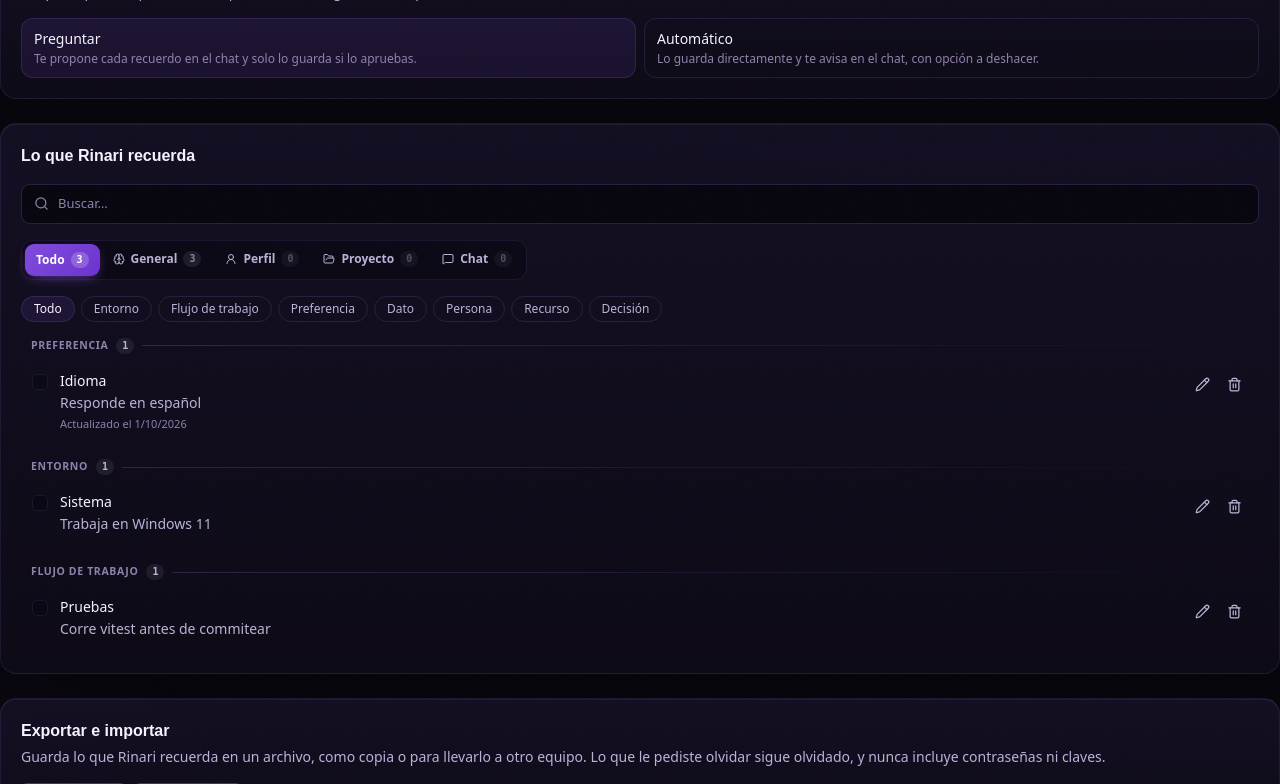
olvida un recuerdo solo tras confirmarlo, con su revisión
(page scrolled)
Click the button named "Olvidar «Idioma»".
click(1234, 384)  # box x1=1220 y1=370 x2=1248 y2=398
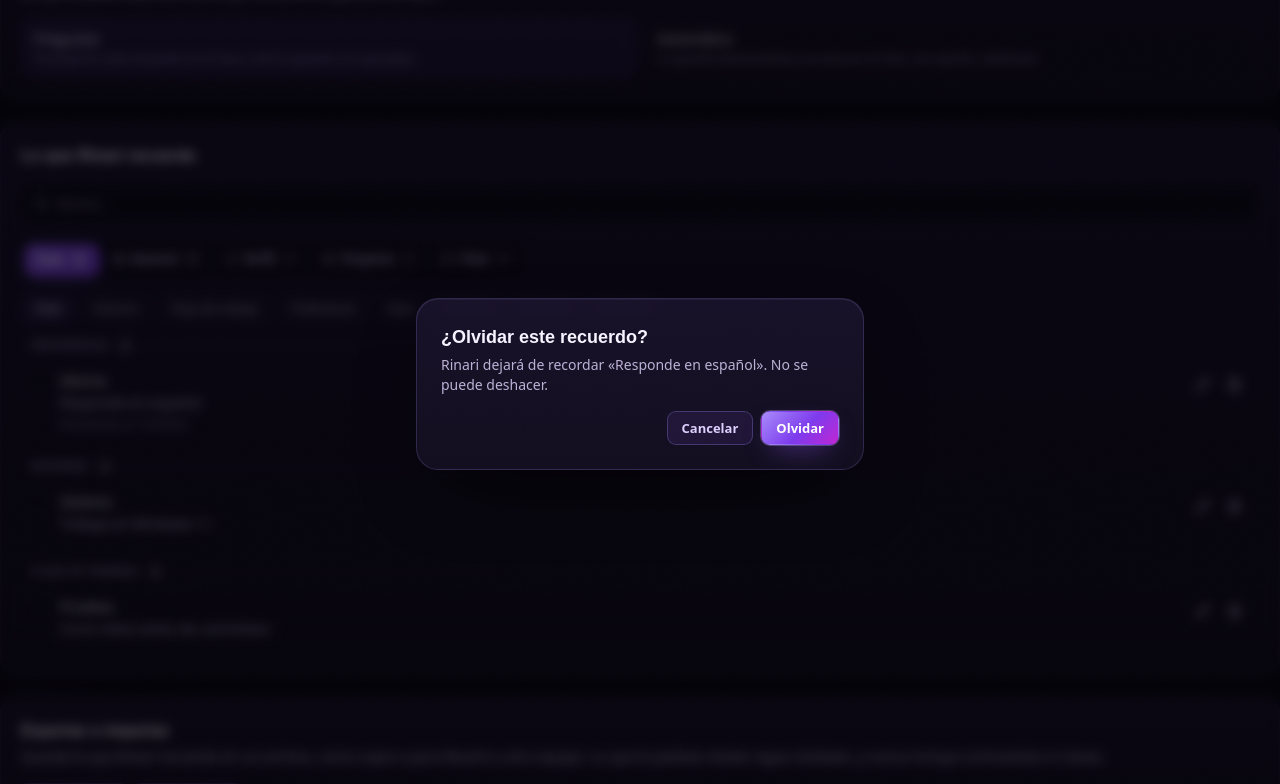
Expected: the text "Rinari dejará de recordar «Responde en español». No se puede deshacer." is shown, x1=441 y1=355 x2=839 y2=395
Click the button "Cancelar".
click(710, 428)  # box x1=667 y1=411 x2=753 y2=445
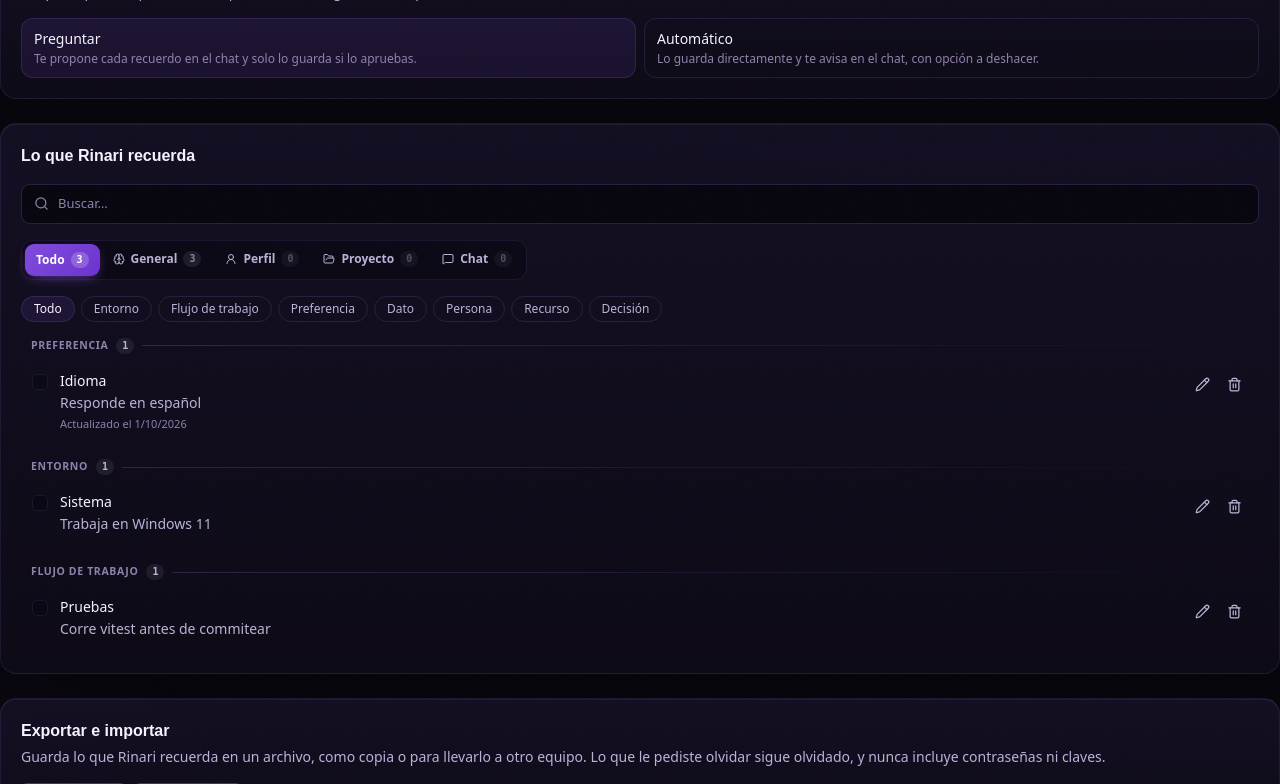
Click the button named "Olvidar «Idioma»".
click(1234, 384)  # box x1=1220 y1=370 x2=1248 y2=398
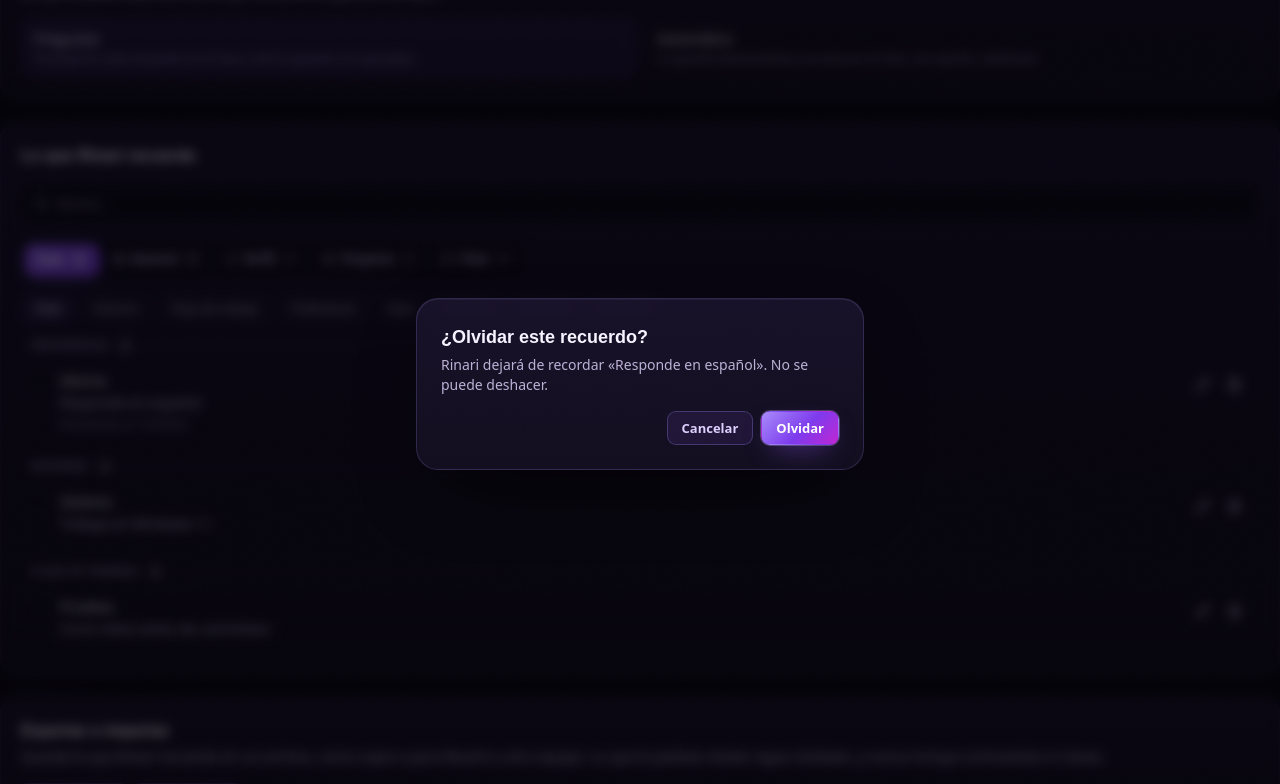
Click the button "Olvidar".
click(800, 428)  # box x1=761 y1=411 x2=839 y2=445
(page scrolled)
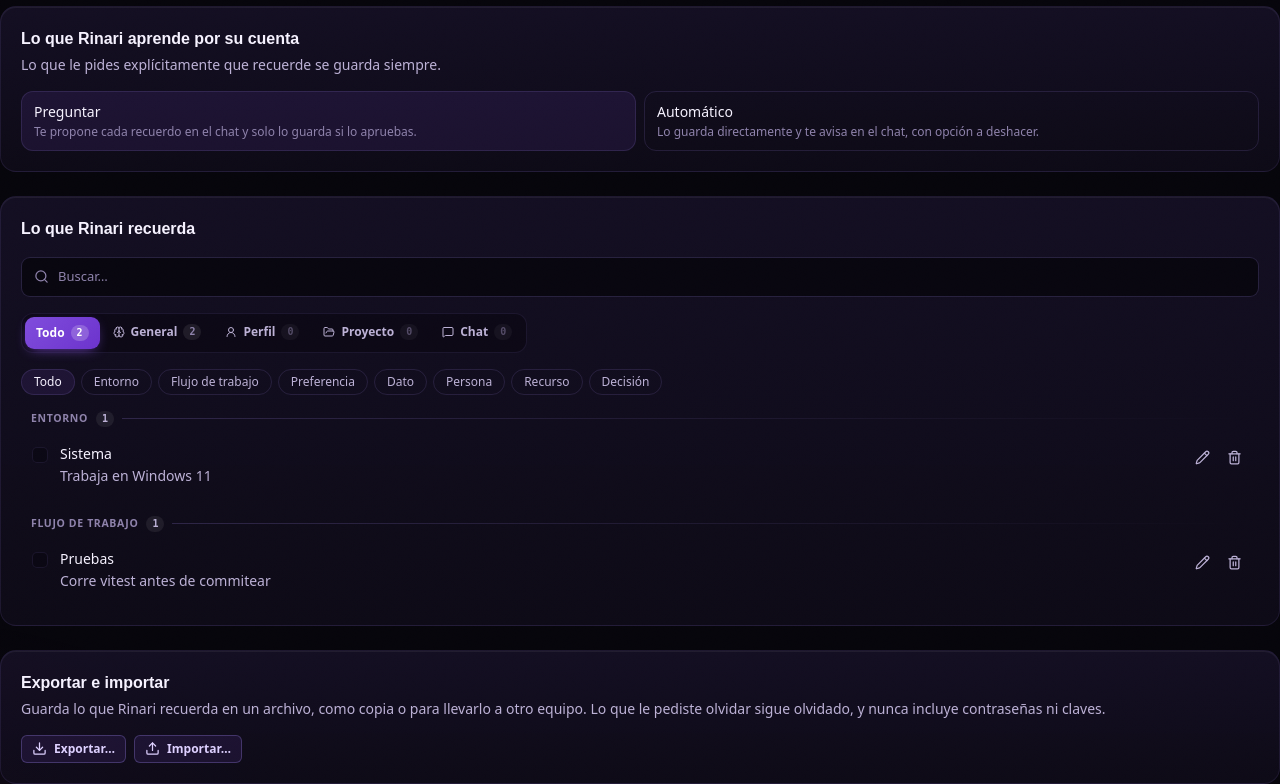
Expected: the text "Responde en español" is gone
